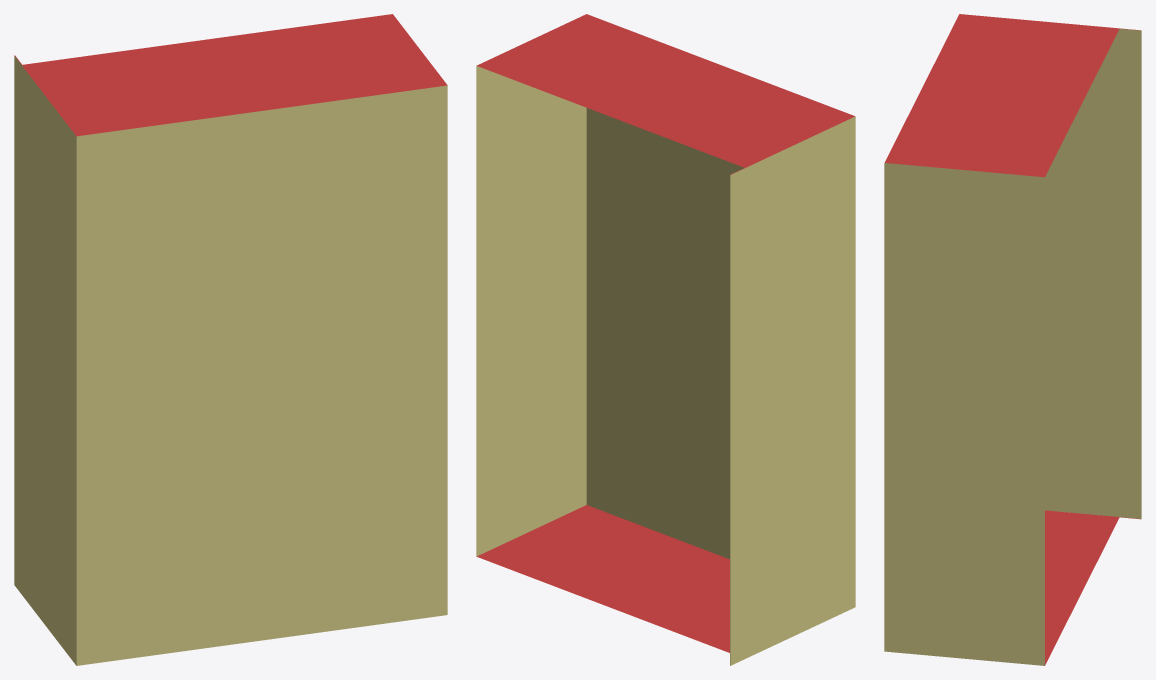
3 renders of one model, left to right at view 1: azimuth 30°, elevation 25°; view 2: azimuth 150°, elevation 25°; view 3: azimuth 270°, elevation 25°, orthographic. The views are drawn at different scales.
Parts seen in each view (by area): view 1: group_4, group_3; view 2: group_4, group_3, group_5; view 3: group_4, group_3, group_5.
Part boxes in pixels (x1,y1,x2,y2): group_4: [14, 56, 447, 665]; group_3: [14, 14, 447, 136]; group_4: [476, 66, 855, 665]; group_3: [477, 14, 854, 174]; group_5: [476, 505, 729, 652]; group_4: [884, 28, 1141, 665]; group_3: [884, 14, 1140, 177]; group_5: [1045, 510, 1140, 665].
Size of the model in its own units: 6.92 by 4.6 by 9.66.
